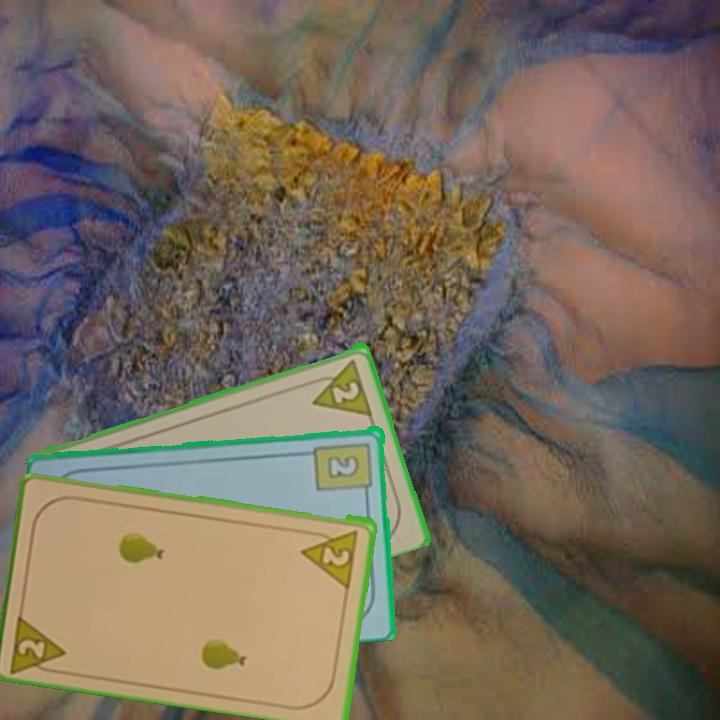2b: (312, 438, 376, 500)
2p: (303, 355, 375, 418), (7, 607, 70, 677), (298, 525, 362, 589)
